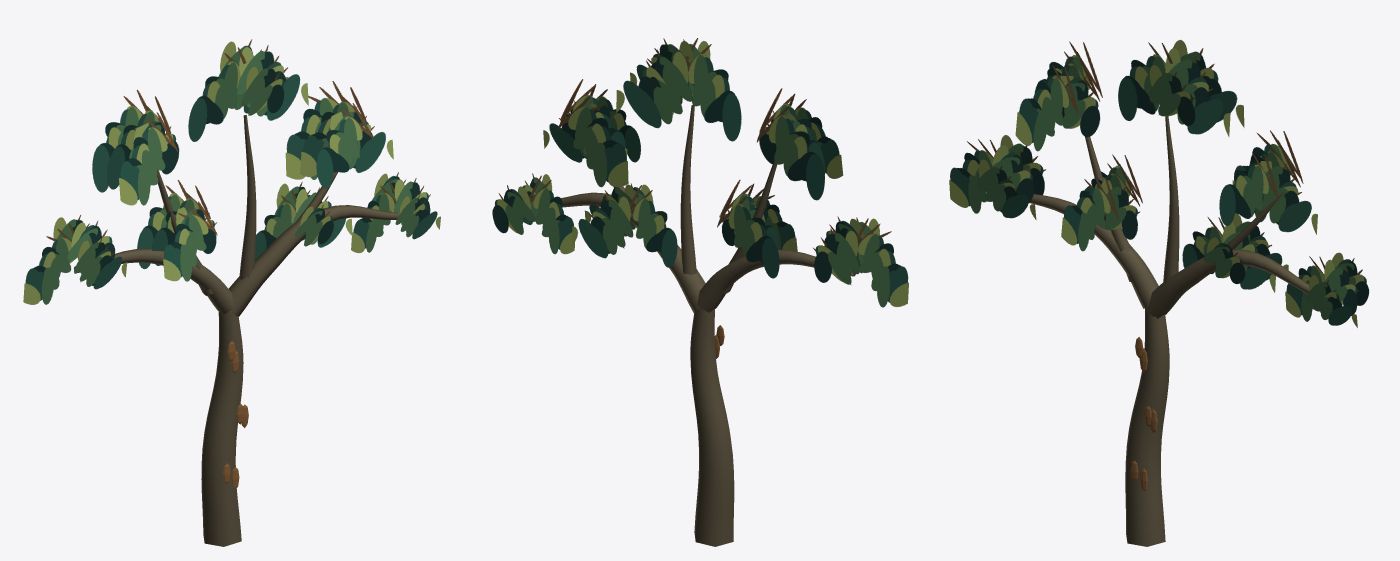
Rendered from TREE_EUCALYPTUS_001_LOD_GAMEPLAY.glb.
3 views of the same model, side by side, from view 1: azimuth 30°, elevation 25°; view 2: azimuth 150°, elevation 25°; view 3: azimuth 330°, elevation 25° (orthographic). The views are drawn at different scales.
Parts seen in each view (by area): view 1: GG_EUC_V4_MAIN_TRUNK, GG_EUC_V4_RIGHT_PRIMARY, GG_EUC_FRONT_ISLAND_01_CLUSTER_00, GG_EUC_BODY_ISLAND_02_CLUSTER_00, GG_EUC_FRONT_ISLAND_03_CLUSTER_00, GG_EUC_FRONT_ISLAND_05_CLUSTER_00, GG_EUC_BODY_ISLAND_00_CLUSTER_00, GG_EUC_BODY_ISLAND_02_CLUSTER_01, GG_EUC_V4_LEFT_PRIMARY, GG_EUC_REAR_ISLAND_03_CLUSTER_00, GG_EUC_FRONT_ISLAND_00_CLUSTER_00, GG_EUC_REAR_ISLAND_01_CLUSTER_00 (+17 smaller); view 2: GG_EUC_V4_MAIN_TRUNK, GG_EUC_REAR_ISLAND_02_CLUSTER_00, GG_EUC_REAR_ISLAND_03_CLUSTER_00, GG_EUC_BODY_ISLAND_02_CLUSTER_00, GG_EUC_REAR_ISLAND_01_CLUSTER_00, GG_EUC_BODY_ISLAND_00_CLUSTER_00, GG_EUC_REAR_ISLAND_06_CLUSTER_00, GG_EUC_REAR_ISLAND_05_CLUSTER_00, GG_EUC_V4_LEFT_PRIMARY, GG_EUC_BODY_ISLAND_06_CLUSTER_00, GG_EUC_REAR_ISLAND_00_CLUSTER_00, GG_EUC_BODY_ISLAND_04_CLUSTER_00 (+13 smaller); view 3: GG_EUC_V4_MAIN_TRUNK, GG_EUC_FRONT_ISLAND_01_CLUSTER_00, GG_EUC_V4_RIGHT_PRIMARY, GG_EUC_BODY_ISLAND_02_CLUSTER_01, GG_EUC_FRONT_ISLAND_05_CLUSTER_00, GG_EUC_FRONT_ISLAND_03_CLUSTER_00, GG_EUC_BODY_ISLAND_03_CLUSTER_00, GG_EUC_V4_LEFT_PRIMARY, GG_EUC_BODY_ISLAND_02_CLUSTER_00, GG_EUC_FRONT_ISLAND_00_CLUSTER_00, GG_EUC_BODY_ISLAND_00_CLUSTER_00, GG_EUC_FRONT_ISLAND_02_CLUSTER_00 (+19 smaller).
Part boxes in pixels (bbox=[...]): GG_EUC_V4_MAIN_TRUNK: bbox=[201, 311, 243, 546]; GG_EUC_V4_RIGHT_PRIMARY: bbox=[228, 205, 399, 316]; GG_EUC_FRONT_ISLAND_01_CLUSTER_00: bbox=[119, 112, 177, 205]; GG_EUC_BODY_ISLAND_02_CLUSTER_00: bbox=[188, 47, 246, 141]; GG_EUC_FRONT_ISLAND_03_CLUSTER_00: bbox=[316, 103, 373, 188]; GG_EUC_FRONT_ISLAND_05_CLUSTER_00: bbox=[163, 201, 217, 281]; GG_EUC_BODY_ISLAND_00_CLUSTER_00: bbox=[23, 223, 74, 304]; GG_EUC_BODY_ISLAND_02_CLUSTER_01: bbox=[236, 45, 308, 120]; GG_EUC_V4_LEFT_PRIMARY: bbox=[74, 248, 233, 314]; GG_EUC_REAR_ISLAND_03_CLUSTER_00: bbox=[285, 81, 343, 179]; GG_EUC_FRONT_ISLAND_00_CLUSTER_00: bbox=[74, 238, 127, 289]; GG_EUC_REAR_ISLAND_01_CLUSTER_00: bbox=[92, 89, 147, 192]; GG_EUC_V4_MAIN_TRUNK: bbox=[690, 308, 734, 546]; GG_EUC_REAR_ISLAND_02_CLUSTER_00: bbox=[616, 49, 692, 128]; GG_EUC_REAR_ISLAND_03_CLUSTER_00: bbox=[558, 90, 628, 187]; GG_EUC_BODY_ISLAND_02_CLUSTER_00: bbox=[685, 38, 741, 141]; GG_EUC_REAR_ISLAND_01_CLUSTER_00: bbox=[757, 99, 824, 200]; GG_EUC_BODY_ISLAND_00_CLUSTER_00: bbox=[857, 218, 908, 307]; GG_EUC_REAR_ISLAND_06_CLUSTER_00: bbox=[571, 195, 633, 258]; GG_EUC_REAR_ISLAND_05_CLUSTER_00: bbox=[717, 190, 779, 278]; GG_EUC_V4_LEFT_PRIMARY: bbox=[697, 249, 853, 312]; GG_EUC_BODY_ISLAND_06_CLUSTER_00: bbox=[630, 185, 677, 267]; GG_EUC_REAR_ISLAND_00_CLUSTER_00: bbox=[813, 228, 859, 284]; GG_EUC_BODY_ISLAND_04_CLUSTER_00: bbox=[529, 175, 574, 254]; GG_EUC_V4_MAIN_TRUNK: bbox=[1125, 308, 1169, 546]; GG_EUC_FRONT_ISLAND_01_CLUSTER_00: bbox=[1015, 65, 1078, 151]; GG_EUC_V4_RIGHT_PRIMARY: bbox=[1145, 249, 1309, 318]; GG_EUC_BODY_ISLAND_02_CLUSTER_01: bbox=[1165, 47, 1230, 136]; GG_EUC_FRONT_ISLAND_05_CLUSTER_00: bbox=[1061, 177, 1118, 251]; GG_EUC_FRONT_ISLAND_03_CLUSTER_00: bbox=[1219, 153, 1278, 225]; GG_EUC_BODY_ISLAND_03_CLUSTER_00: bbox=[1260, 161, 1317, 234]; GG_EUC_V4_LEFT_PRIMARY: bbox=[1029, 194, 1158, 308]; GG_EUC_BODY_ISLAND_02_CLUSTER_00: bbox=[1118, 42, 1172, 120]; GG_EUC_FRONT_ISLAND_00_CLUSTER_00: bbox=[977, 159, 1036, 219]; GG_EUC_BODY_ISLAND_00_CLUSTER_00: bbox=[949, 139, 996, 213]; GG_EUC_FRONT_ISLAND_02_CLUSTER_00: bbox=[1149, 64, 1195, 125].
Size of the model in its own units: 6.18 by 7.03 by 0.8485.
3 materials, 1 textured.
